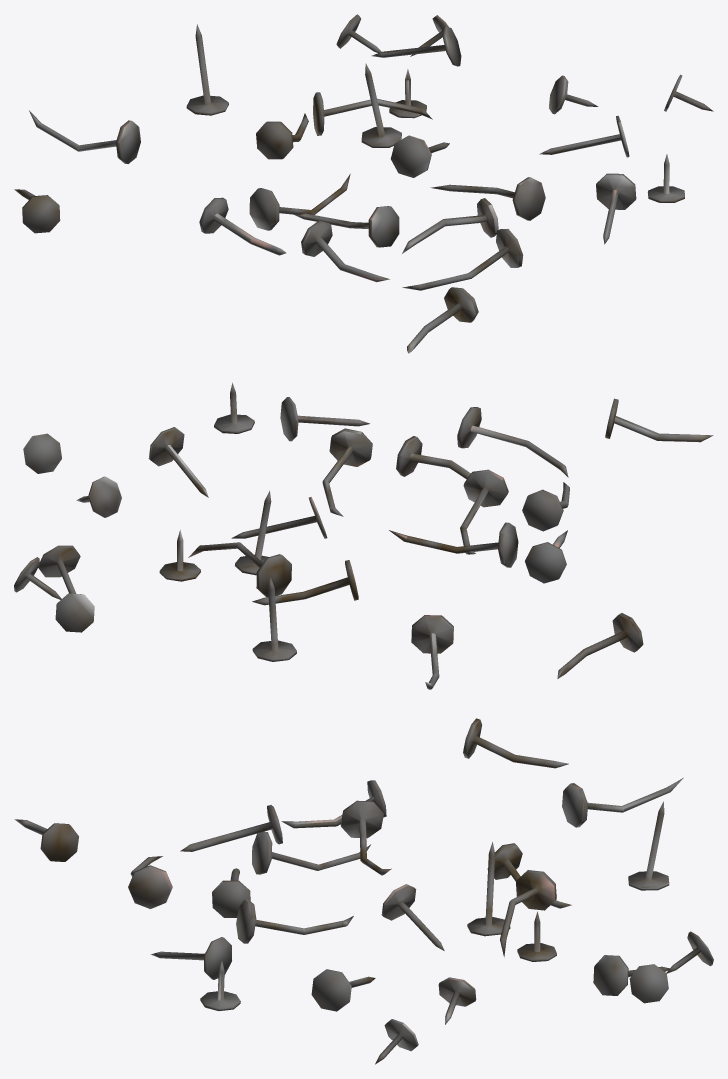
Rendered from Asset_02_nails_v001.obj.
3 renders of one model, top to bottom at view 1: azimuth 30°, elevation 25°; view 2: azimuth 150°, elevation 25°; view 3: azimuth 270°, elevation 25°, orthographic. The views are drawn at different scales.
Visible parts, largest first — view 1: nails_low; view 2: nails_low; view 3: nails_low.
Boxes of the visible parts, bbox=[...] form: nails_low: bbox=[14, 14, 713, 353]; nails_low: bbox=[14, 382, 713, 689]; nails_low: bbox=[14, 718, 713, 1064].
Size of the model in its own units: 6.4 by 0.7676 by 5.93.
